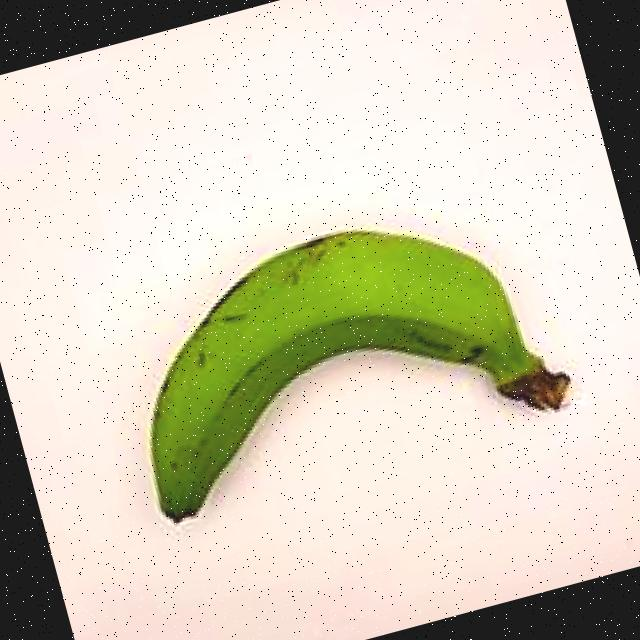Raw: (68, 152, 619, 592)
